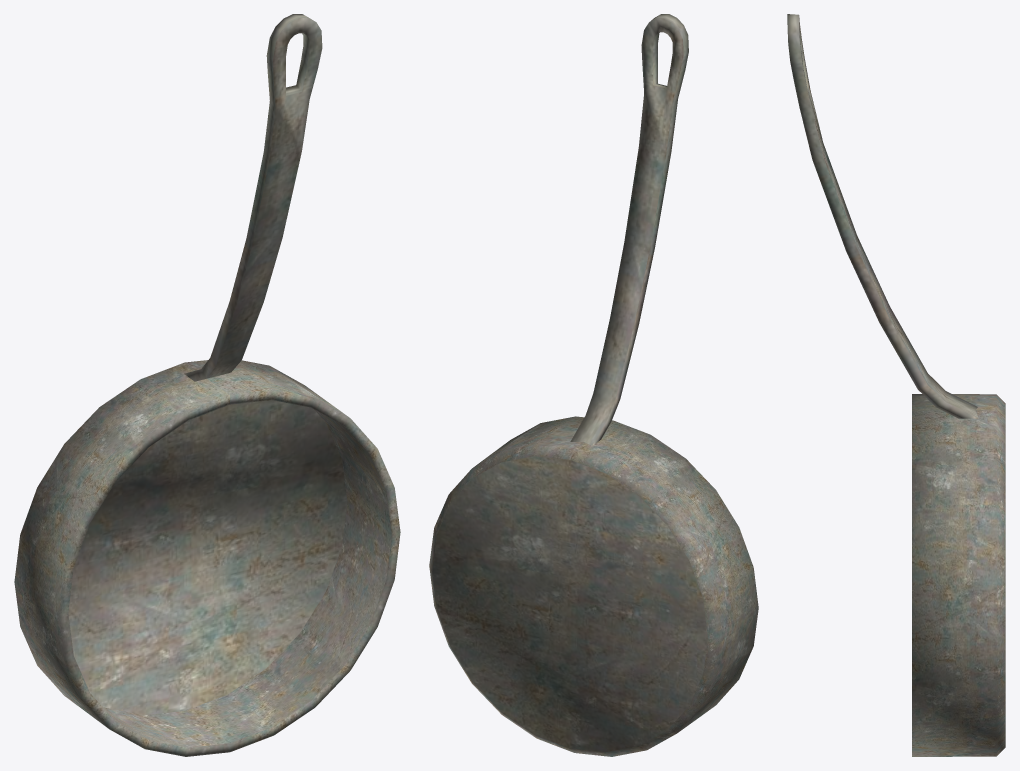
File: prop_kitchenmetalpan.glb
The picture shows the model from 3 angles, left to right: view 1: azimuth 30°, elevation 25°; view 2: azimuth 150°, elevation 25°; view 3: azimuth 270°, elevation 25°; orthographic projection. The views are drawn at different scales.
Size of the model in its own units: 10.44 by 22.93 by 6.26.
1 material, 1 textured.
